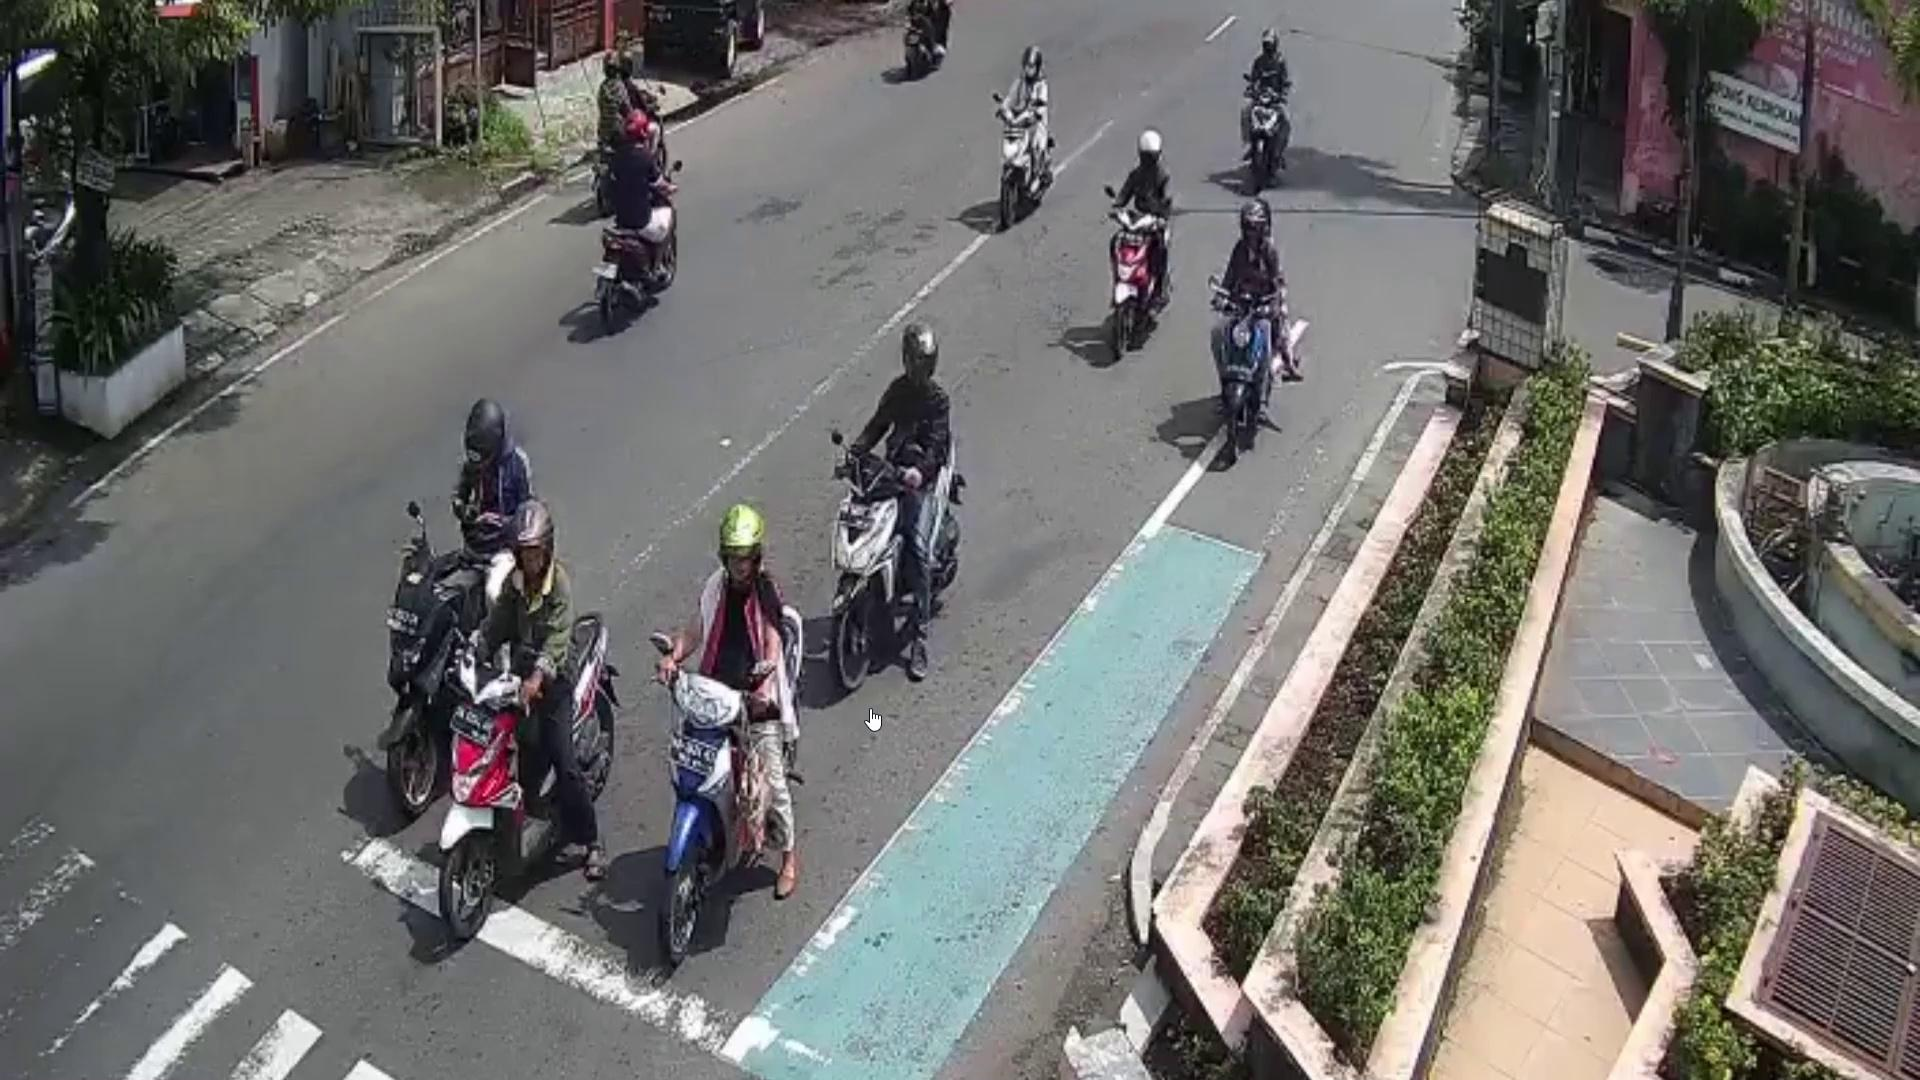motorbike: (440, 608, 611, 948), (659, 600, 806, 948), (829, 411, 959, 695), (382, 542, 484, 822), (603, 178, 679, 310), (1212, 289, 1269, 462), (1000, 103, 1055, 235), (1109, 202, 1155, 353), (1229, 78, 1290, 189)
